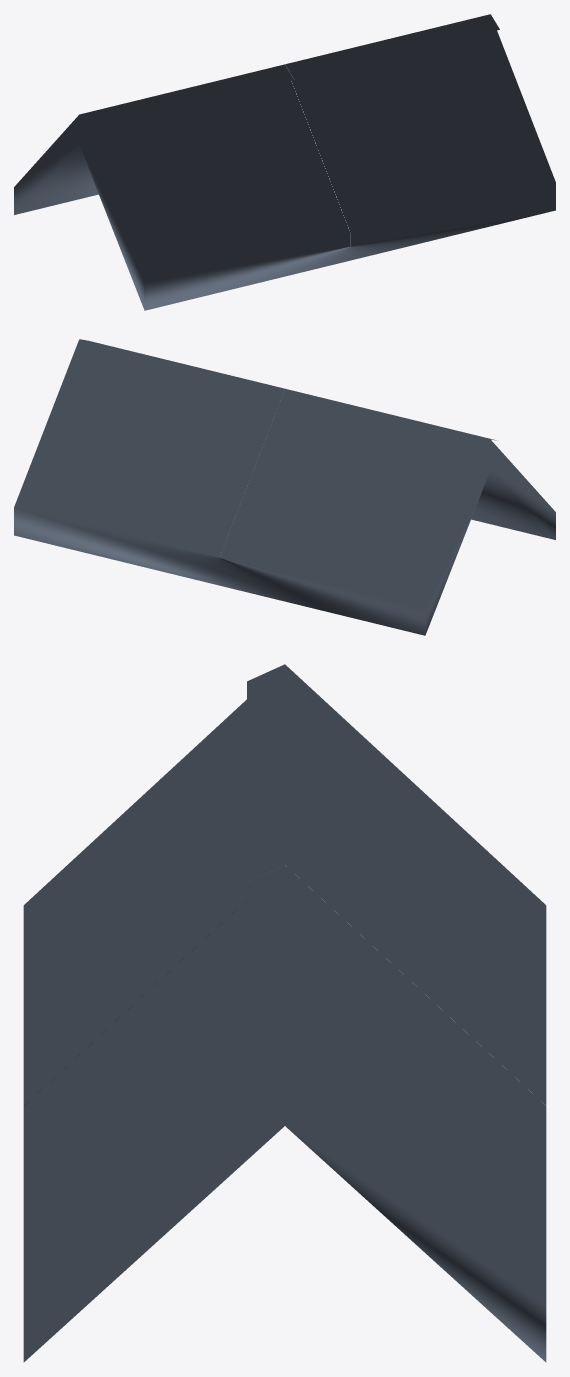
The model's file is roof_ridge_slate_lod1.glb.
The picture shows the model from 3 angles, top to bottom: view 1: azimuth 30°, elevation 25°; view 2: azimuth 150°, elevation 25°; view 3: azimuth 270°, elevation 25°; orthographic projection. The views are drawn at different scales.
Bounding box in the file's own units: 2 × 0.69 × 1.1.
